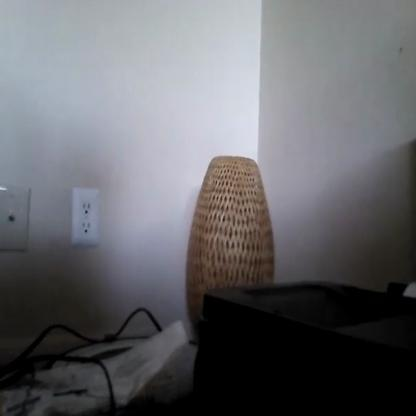OUTLET: (71, 187, 99, 245)
